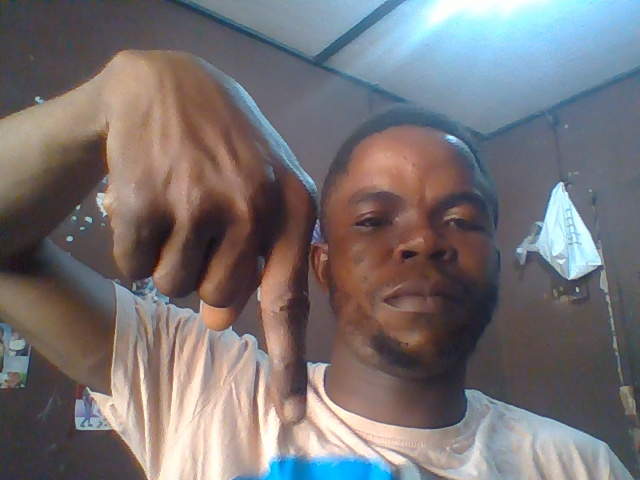Down: (100, 43, 331, 432)
